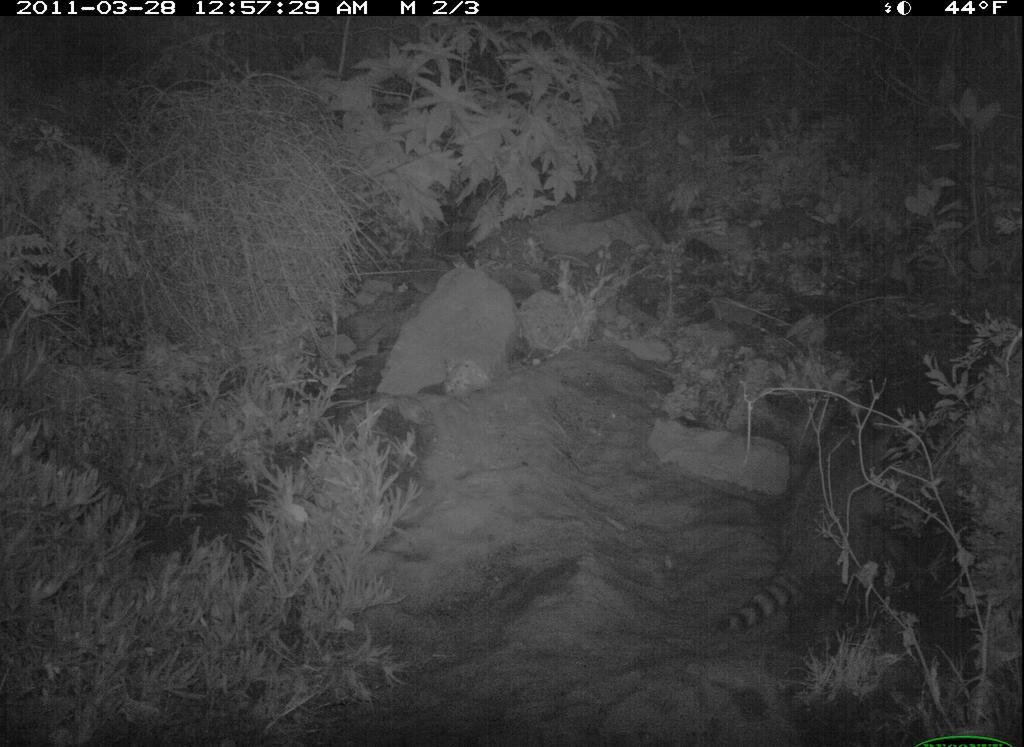raccoon: (713, 402, 920, 647)
